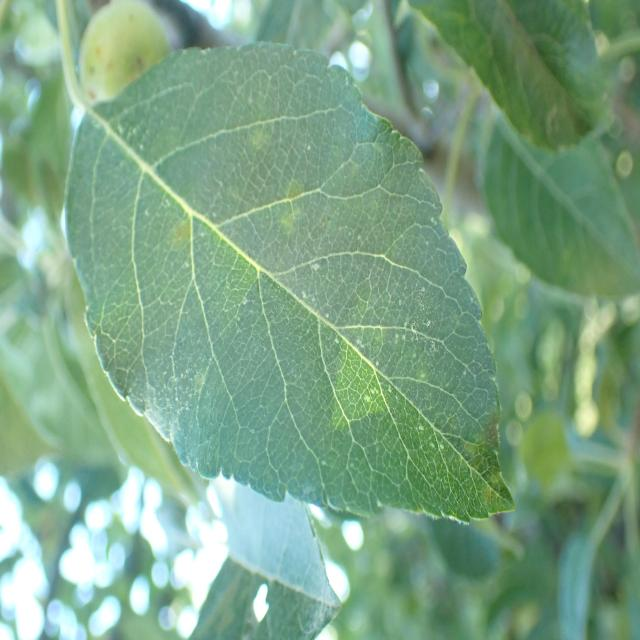scab: (108, 84, 512, 515)
